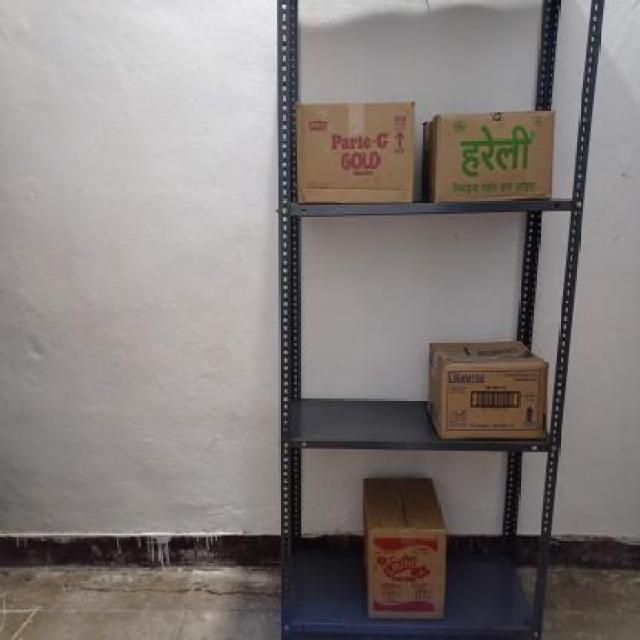box: (293, 100, 415, 200), (436, 112, 556, 200), (440, 363, 551, 440), (366, 532, 446, 620)
